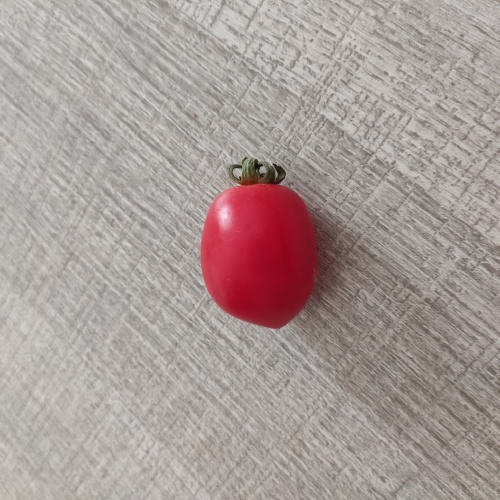pomodoro: (199, 155, 320, 334)
